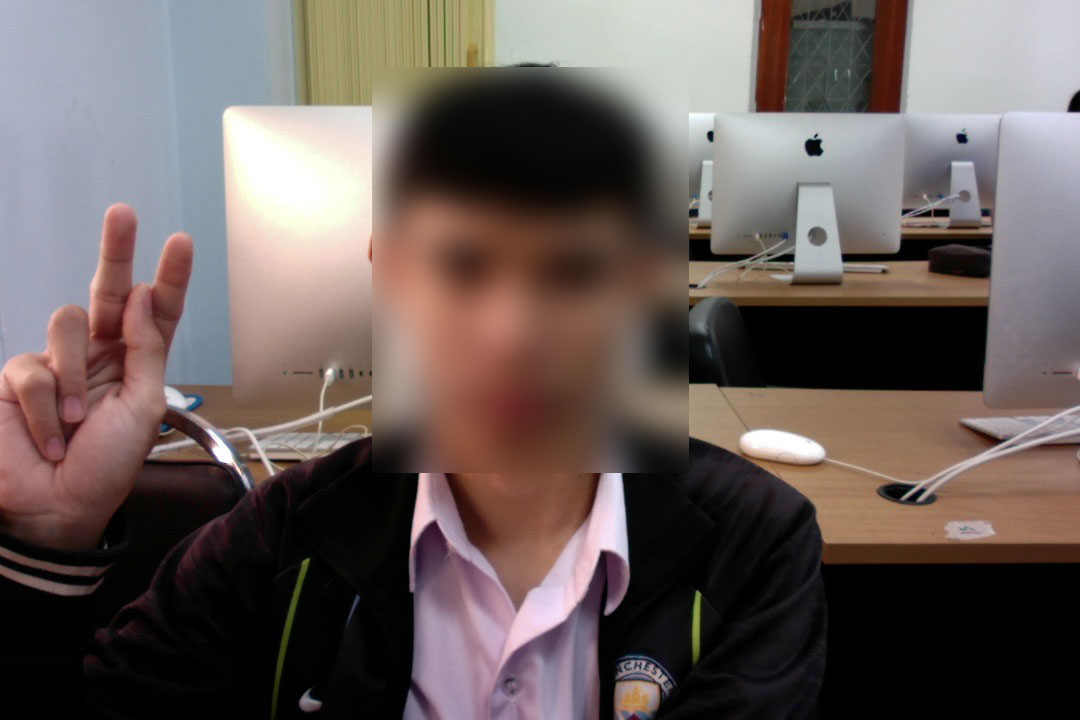ko: (0, 193, 214, 571)
